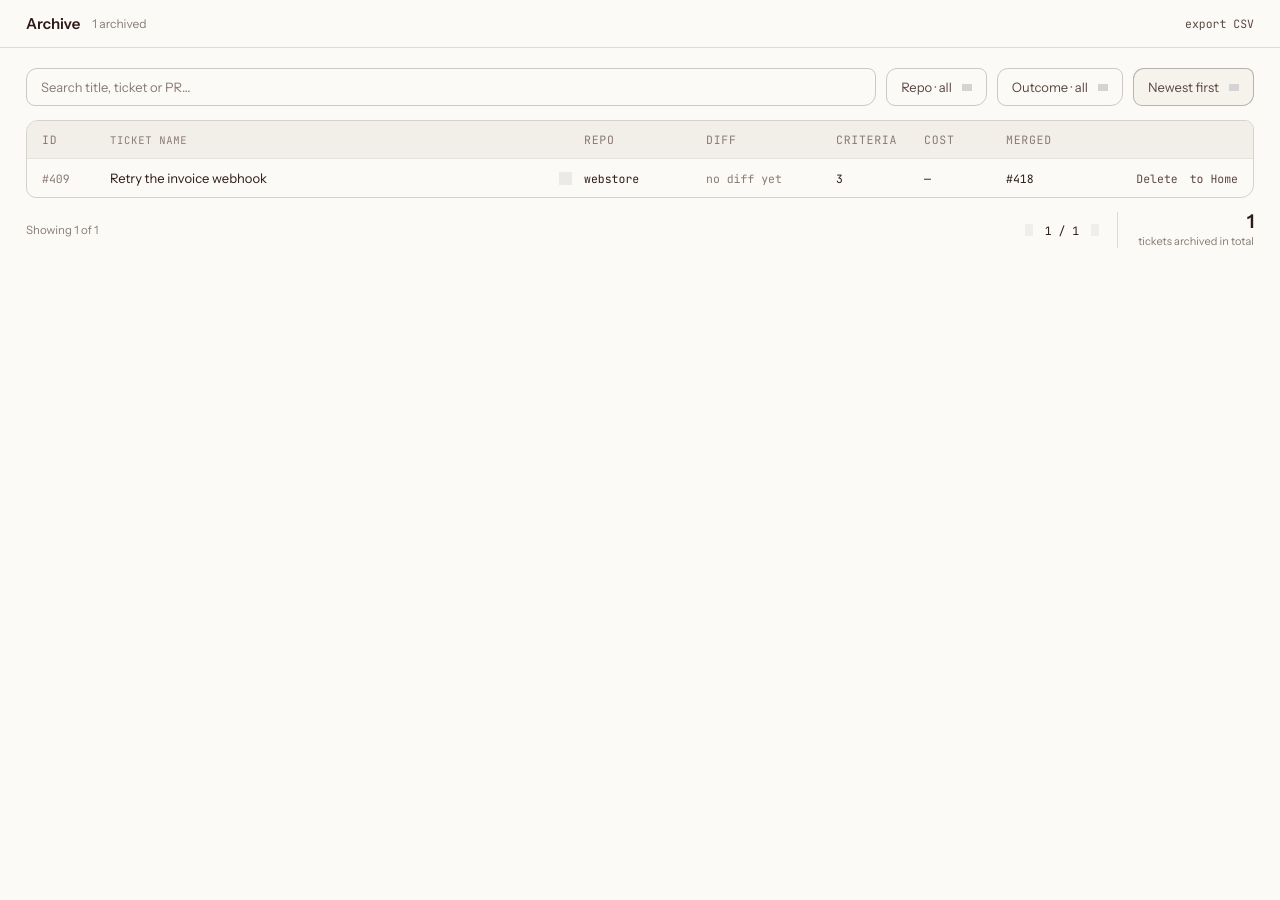
Test: deleting from the Archive › asks first in the picker's confirmation, saying what goes and what stays, and Keep it sends nothing
Step 1. Click the button with aria-label "Delete ticket: Retry the invoice webhook" → (1157, 178), box [1136,170,1178,186]
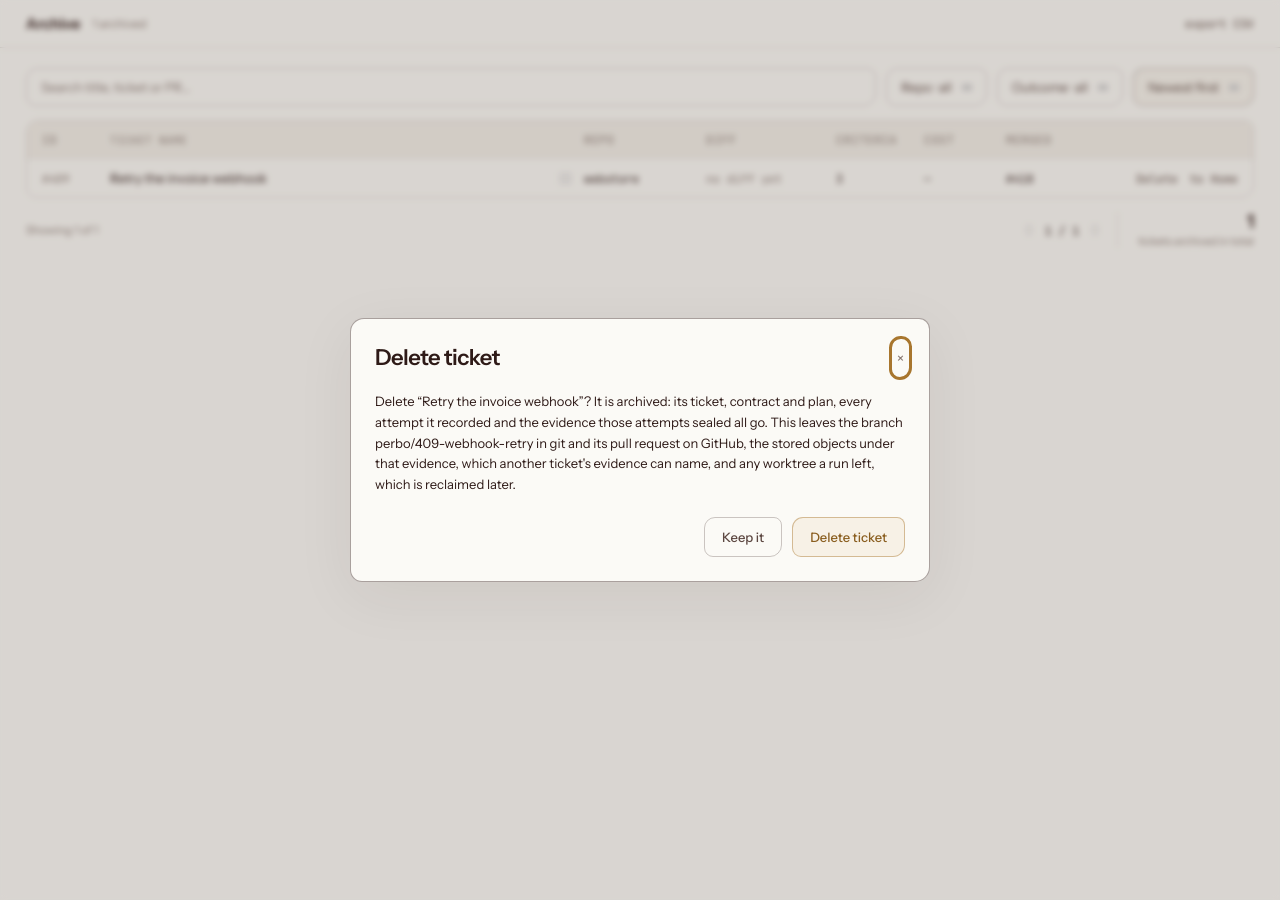
Step 2. Click the button "Keep it" → (743, 537), box [704,517,782,557]
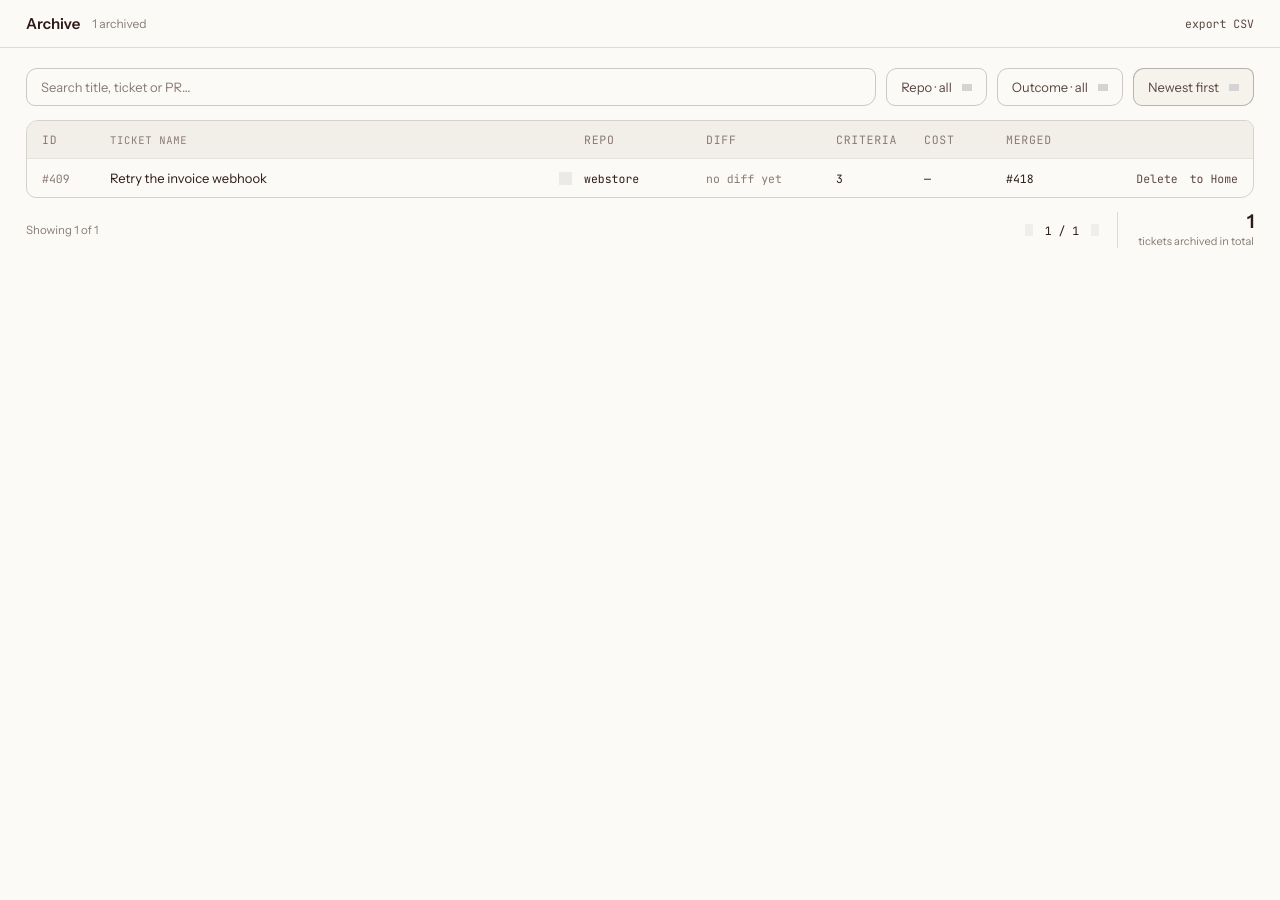
Now the heading "Delete ticket" is gone
